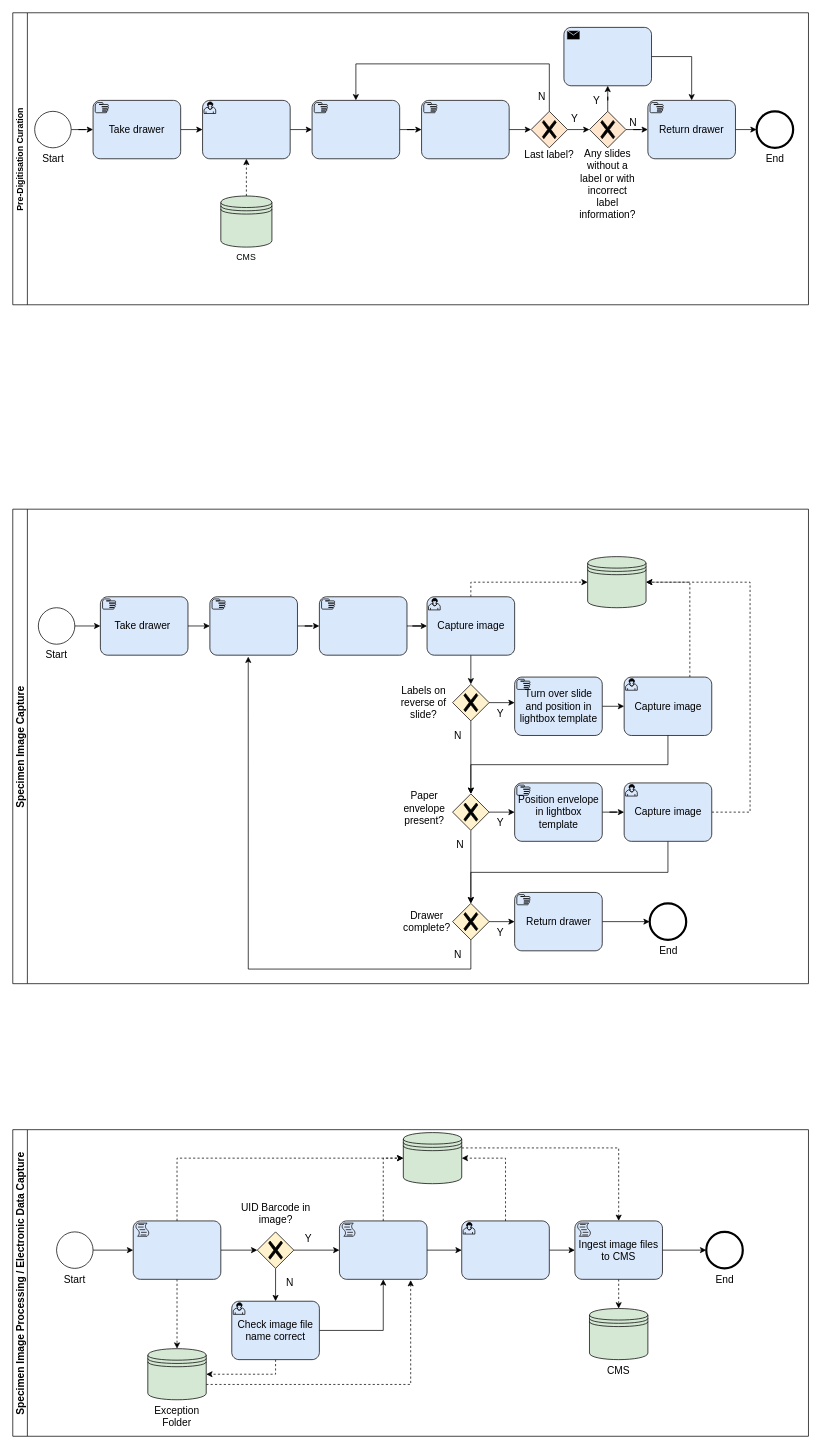
Some shapes in this 821 by 1449 pixel diagram are drawn without their labels. Here are the shapes that lost their labels. From the top down, the centre of each, then its label:
point (607, 56): Inform curator
point (246, 129): Generate taxon and location barcode labels
point (355, 129): Take label
point (465, 129): Insert label beside relevant slide in drawer
point (616, 582): Image Folder
point (253, 625): Attach UID barcode to slide
point (363, 625): Position slide and barcodes in lightbox template
point (432, 1158): Image Folders
point (176, 1249): Rename image files
point (383, 1249): Crop and rotate images
point (505, 1249): Quality check cropped images
